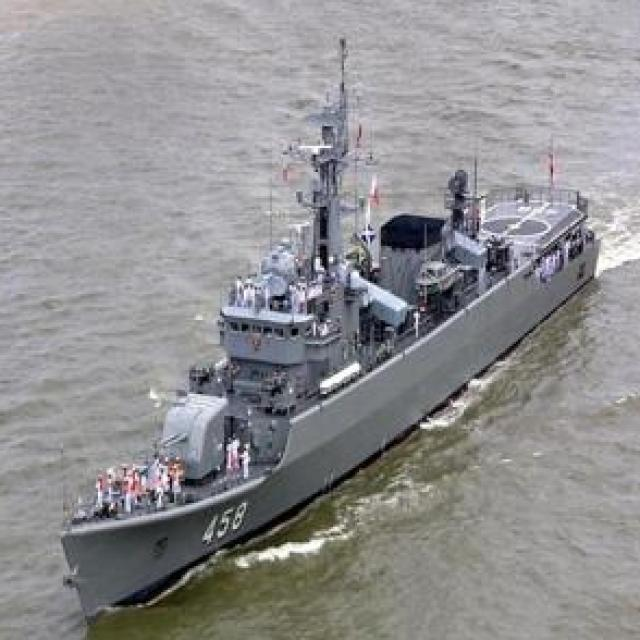navalvessels: (64, 36, 601, 616)
